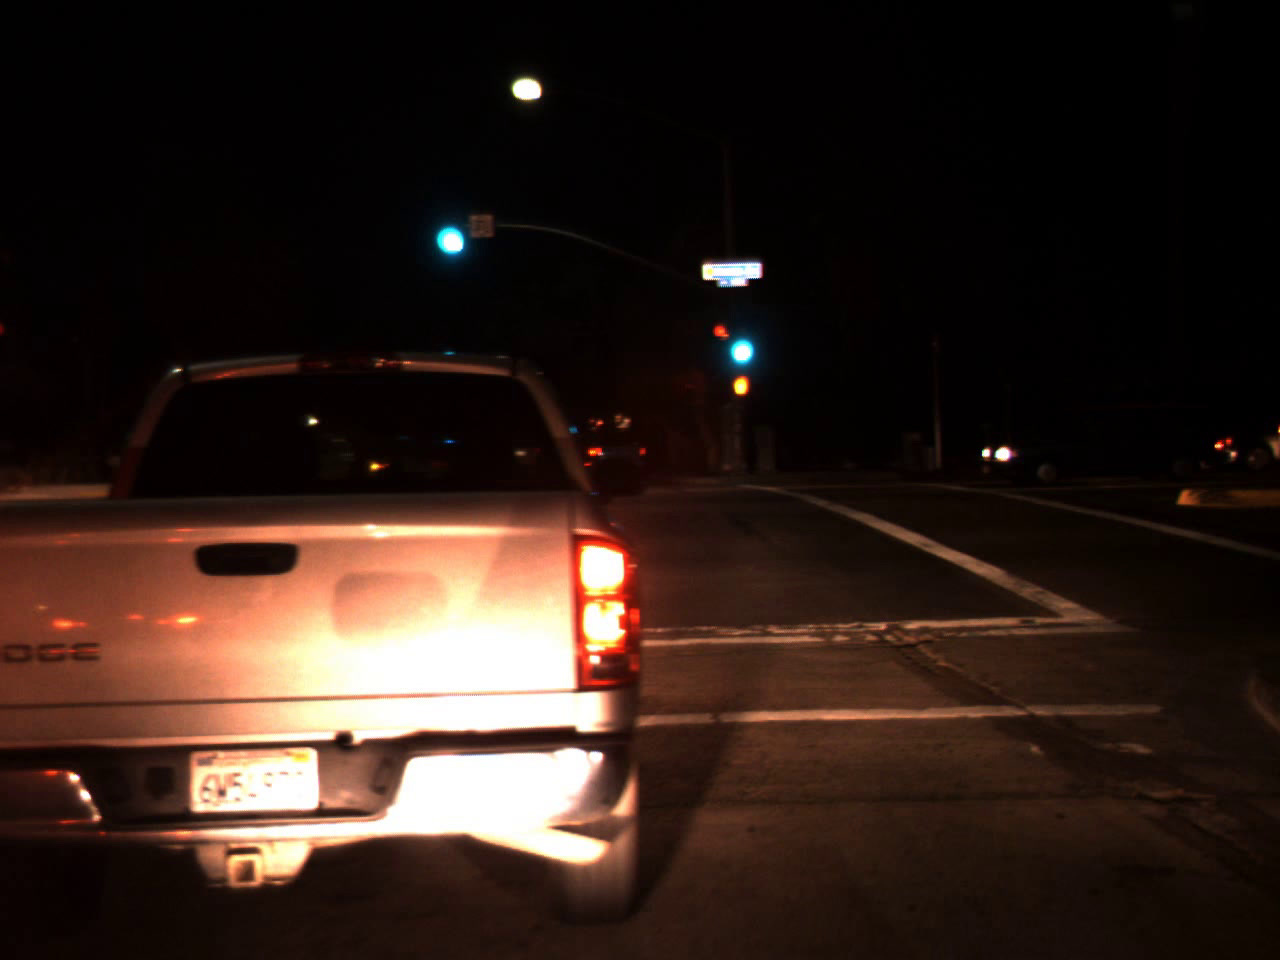go: (425, 190, 470, 265), (721, 308, 758, 374)
